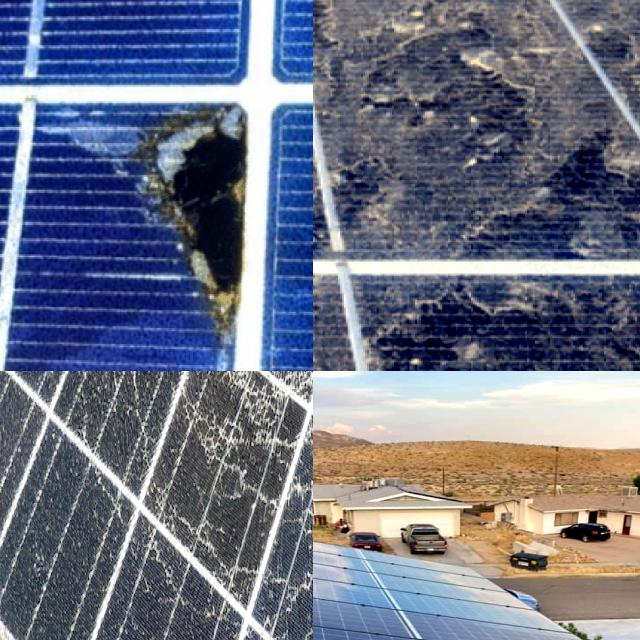dust: (313, 0, 518, 256), (373, 276, 640, 371), (573, 0, 640, 256), (313, 0, 364, 253), (313, 277, 410, 371), (313, 0, 458, 28), (481, 0, 640, 25)
hotspot: (197, 439, 313, 634), (220, 371, 313, 482)
shadow: (66, 78, 296, 371)
